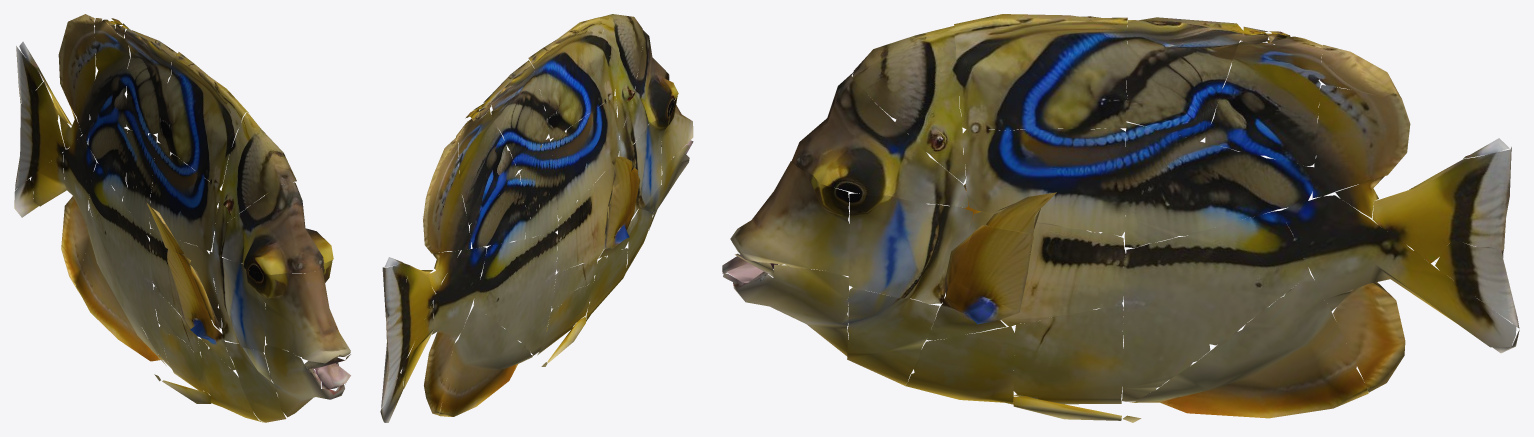
Rendered from trop_triggerfish.glb.
3 renders of one model, left to right at view 1: azimuth 30°, elevation 25°; view 2: azimuth 150°, elevation 25°; view 3: azimuth 270°, elevation 25°, orthographic. The views are drawn at different scales.
Visible parts, largest first — view 1: tripo_node_e1e6ff34-7094-4775-bfae-513e77655913; view 2: tripo_node_e1e6ff34-7094-4775-bfae-513e77655913; view 3: tripo_node_e1e6ff34-7094-4775-bfae-513e77655913.
Boxes of the visible parts, x1,y1,x2,y2 form: tripo_node_e1e6ff34-7094-4775-bfae-513e77655913: [14, 14, 350, 422]; tripo_node_e1e6ff34-7094-4775-bfae-513e77655913: [380, 14, 693, 422]; tripo_node_e1e6ff34-7094-4775-bfae-513e77655913: [722, 14, 1519, 422].
Size of the model in its own units: 0.2083 by 0.5558 by 0.995.
Materials: 1 (1 with a texture image).
